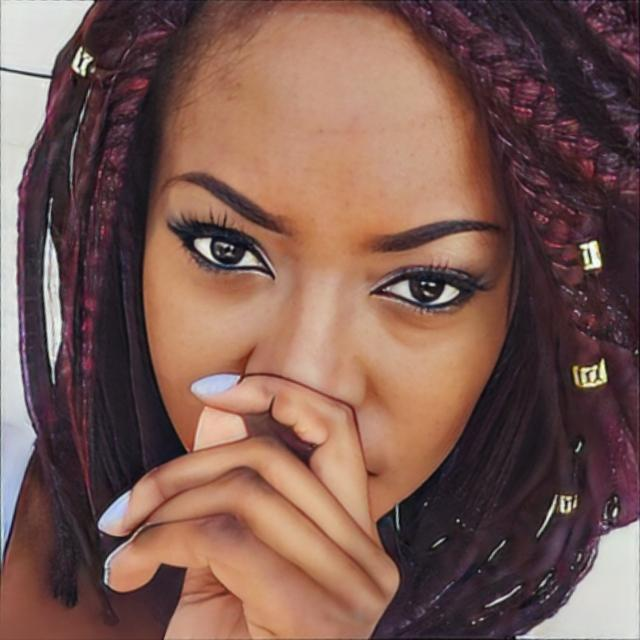sad: (139, 1, 516, 540)
